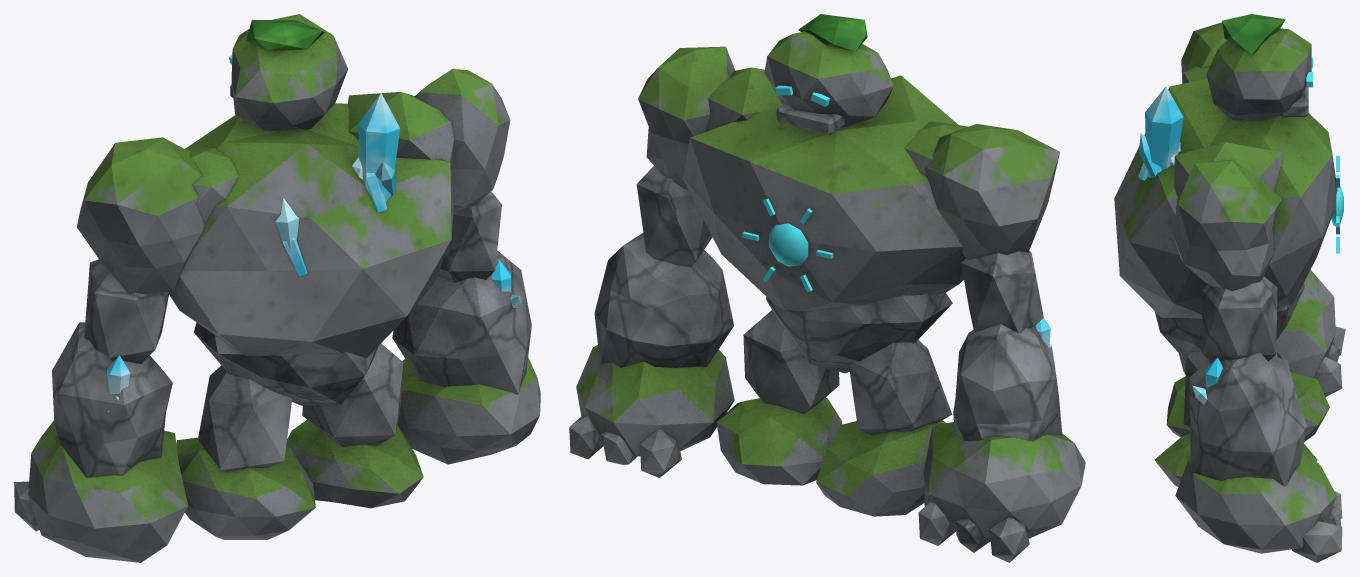
File: golem_musgo.fbx
3 renders of one model, left to right at view 1: azimuth 30°, elevation 25°; view 2: azimuth 150°, elevation 25°; view 3: azimuth 270°, elevation 25°, orthographic. The views are drawn at different scales.
Visible parts, largest first — view 1: golem_musgo_torso, golem_musgo_antebrazo_der, golem_musgo_antebrazo_izq, golem_musgo_brazo_der, golem_musgo_pierna_der, golem_musgo_pierna_izq, golem_musgo_brazo_izq, golem_musgo_cabeza; view 2: golem_musgo_torso, golem_musgo_antebrazo_izq, golem_musgo_antebrazo_der, golem_musgo_brazo_der, golem_musgo_pierna_der, golem_musgo_pierna_izq, golem_musgo_brazo_izq, golem_musgo_cabeza; view 3: golem_musgo_torso, golem_musgo_antebrazo_izq, golem_musgo_brazo_izq, golem_musgo_cabeza, golem_musgo_antebrazo_der, golem_musgo_pierna_der, golem_musgo_pierna_izq, golem_musgo_brazo_der.
Part boxes in pixels (bbox=[...]): golem_musgo_torso: bbox=[169, 91, 453, 405]; golem_musgo_antebrazo_der: bbox=[14, 322, 188, 562]; golem_musgo_antebrazo_izq: bbox=[392, 251, 540, 464]; golem_musgo_brazo_der: bbox=[77, 137, 204, 363]; golem_musgo_pierna_der: bbox=[176, 365, 315, 539]; golem_musgo_pierna_izq: bbox=[286, 344, 423, 508]; golem_musgo_brazo_izq: bbox=[415, 69, 510, 282]; golem_musgo_cabeza: bbox=[229, 14, 347, 130]; golem_musgo_torso: bbox=[682, 67, 967, 373]; golem_musgo_antebrazo_izq: bbox=[569, 233, 734, 477]; golem_musgo_antebrazo_der: bbox=[918, 318, 1085, 562]; golem_musgo_brazo_der: bbox=[925, 124, 1059, 332]; golem_musgo_pierna_der: bbox=[816, 339, 952, 516]; golem_musgo_pierna_izq: bbox=[716, 310, 842, 485]; golem_musgo_brazo_izq: bbox=[636, 46, 735, 267]; golem_musgo_cabeza: bbox=[764, 14, 893, 134]; golem_musgo_torso: bbox=[1114, 66, 1343, 360]; golem_musgo_antebrazo_izq: bbox=[1175, 352, 1342, 562]; golem_musgo_brazo_izq: bbox=[1172, 159, 1281, 362]; golem_musgo_cabeza: bbox=[1206, 14, 1312, 120]; golem_musgo_antebrazo_der: bbox=[1179, 269, 1345, 396]; golem_musgo_pierna_der: bbox=[1166, 347, 1329, 441]; golem_musgo_pierna_izq: bbox=[1154, 351, 1317, 486]; golem_musgo_brazo_der: bbox=[1181, 22, 1226, 82].
Size of the model in its own units: 16.19 by 15.17 by 7.09.
1 material, 1 textured.
